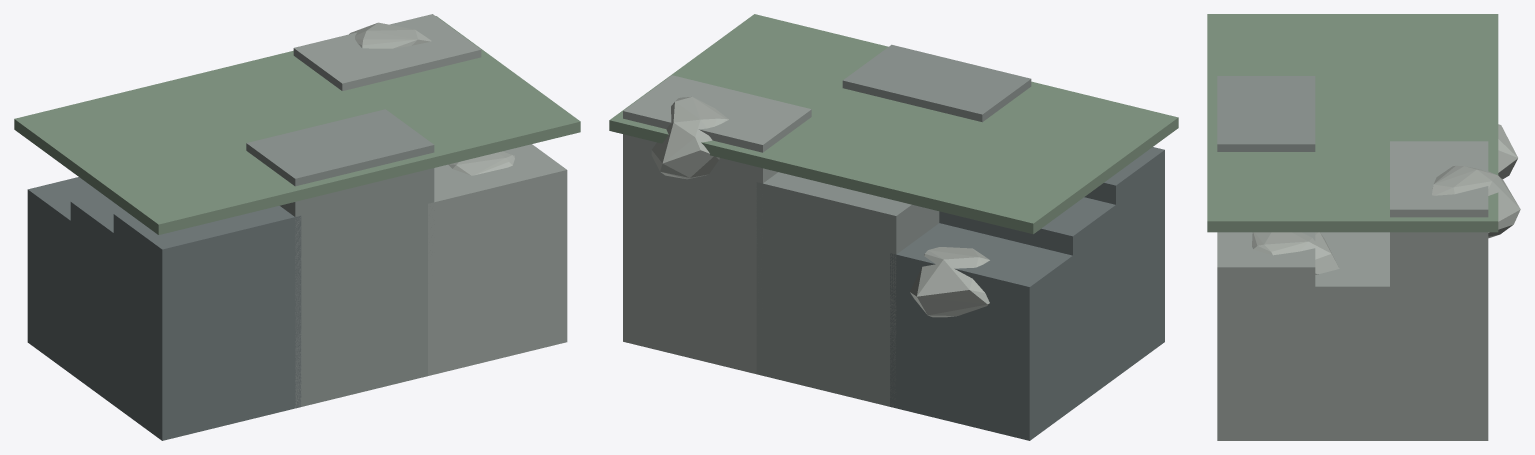
File: penhasco_baixo_musgoso.glb
3 views of the same model, side by side, from view 1: azimuth 30°, elevation 25°; view 2: azimuth 150°, elevation 25°; view 3: azimuth 270°, elevation 25° (orthographic).
Visible parts, largest first — view 1: penhasco_baixo_musgoso_part_014, penhasco_baixo_musgoso_part_009, penhasco_baixo_musgoso_part_011, penhasco_baixo_musgoso_part_012, penhasco_baixo_musgoso_part_005, penhasco_baixo_musgoso_part_000, penhasco_baixo_musgoso_part_003, penhasco_baixo_musgoso_part_004, penhasco_baixo_musgoso_part_013; view 2: penhasco_baixo_musgoso_part_014, penhasco_baixo_musgoso_part_003, penhasco_baixo_musgoso_part_000, penhasco_baixo_musgoso_part_002, penhasco_baixo_musgoso_part_005, penhasco_baixo_musgoso_part_009, penhasco_baixo_musgoso_part_011, penhasco_baixo_musgoso_part_001, penhasco_baixo_musgoso_part_004; view 3: penhasco_baixo_musgoso_part_014, penhasco_baixo_musgoso_part_003, penhasco_baixo_musgoso_part_012, penhasco_baixo_musgoso_part_008, penhasco_baixo_musgoso_part_011, penhasco_baixo_musgoso_part_004, penhasco_baixo_musgoso_part_013, penhasco_baixo_musgoso_part_001.
Part boxes in pixels (box(x1,y1,x2,y2)): penhasco_baixo_musgoso_part_014: box(14, 16, 580, 234); penhasco_baixo_musgoso_part_009: box(113, 206, 301, 440); penhasco_baixo_musgoso_part_011: box(246, 109, 434, 407); penhasco_baixo_musgoso_part_012: box(428, 144, 567, 375); penhasco_baixo_musgoso_part_005: box(70, 194, 124, 408); penhasco_baixo_musgoso_part_000: box(27, 177, 101, 374); penhasco_baixo_musgoso_part_003: box(293, 14, 481, 90); penhasco_baixo_musgoso_part_004: box(349, 22, 431, 48); penhasco_baixo_musgoso_part_013: box(448, 151, 514, 175); penhasco_baixo_musgoso_part_014: box(609, 14, 1178, 234); penhasco_baixo_musgoso_part_003: box(623, 75, 811, 374); penhasco_baixo_musgoso_part_000: box(890, 223, 1078, 440); penhasco_baixo_musgoso_part_002: box(756, 172, 939, 406); penhasco_baixo_musgoso_part_005: box(939, 197, 1121, 408); penhasco_baixo_musgoso_part_009: box(1084, 147, 1164, 372); penhasco_baixo_musgoso_part_011: box(842, 44, 1031, 122); penhasco_baixo_musgoso_part_001: box(910, 247, 989, 317); penhasco_baixo_musgoso_part_004: box(651, 96, 728, 179); penhasco_baixo_musgoso_part_014: box(1207, 14, 1498, 232); penhasco_baixo_musgoso_part_003: box(1390, 141, 1488, 440); penhasco_baixo_musgoso_part_012: box(1217, 232, 1315, 440); penhasco_baixo_musgoso_part_008: box(1303, 232, 1401, 440); penhasco_baixo_musgoso_part_011: box(1217, 76, 1315, 151); penhasco_baixo_musgoso_part_004: box(1432, 165, 1520, 238); penhasco_baixo_musgoso_part_013: box(1252, 232, 1339, 274); penhasco_baixo_musgoso_part_001: box(1498, 124, 1517, 179).
Size of the model in its own units: 5.4 by 2.87 by 3.45.
